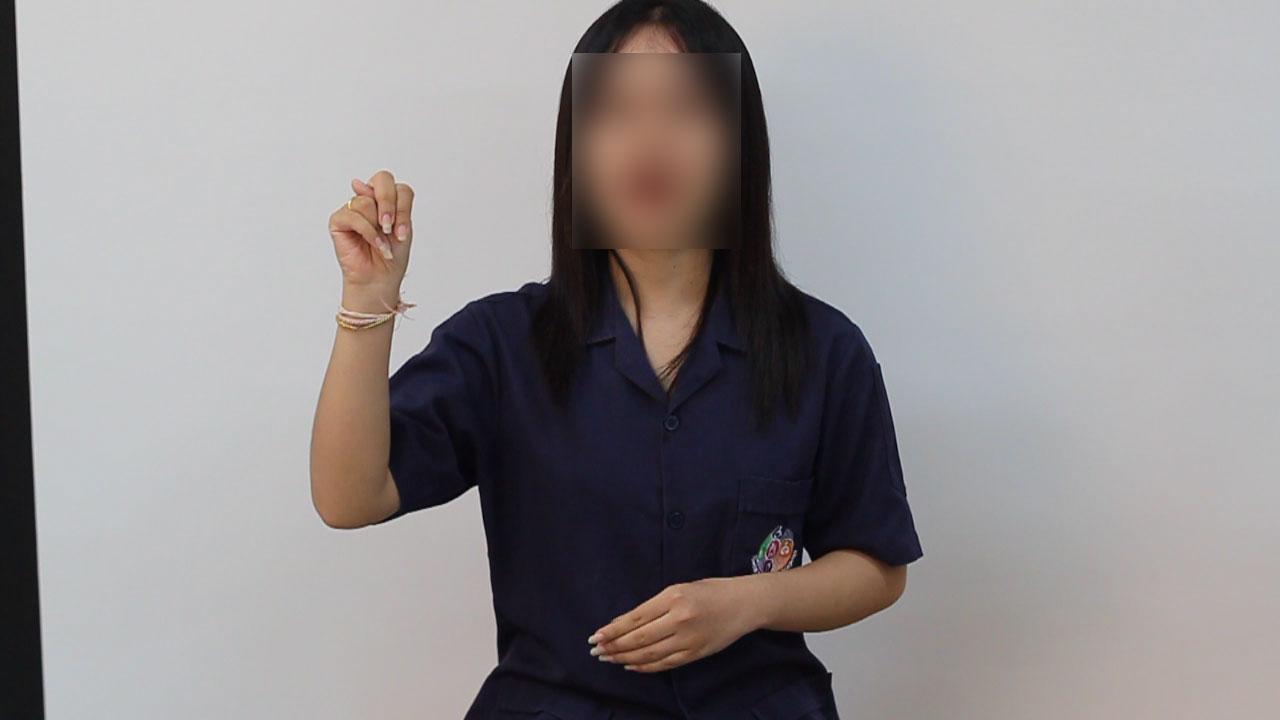nor: (323, 165, 435, 308)
